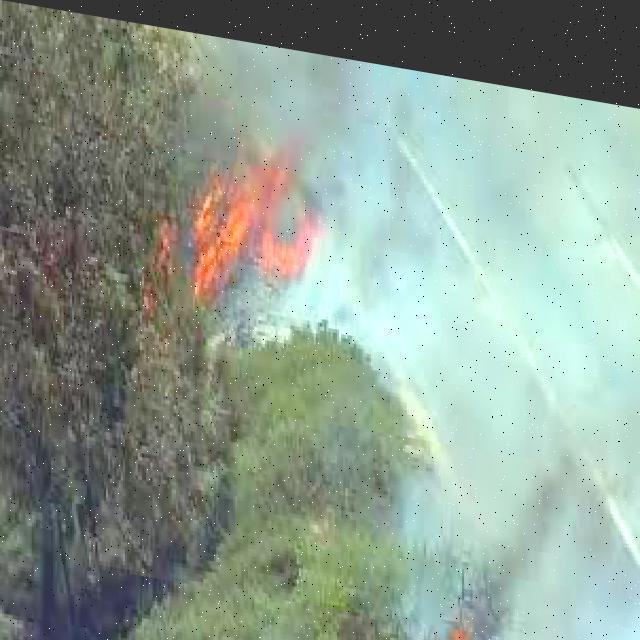Fire: (128, 113, 326, 331)
